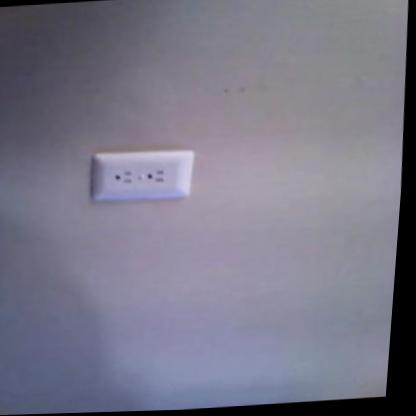OUTLET: (88, 147, 196, 202)
